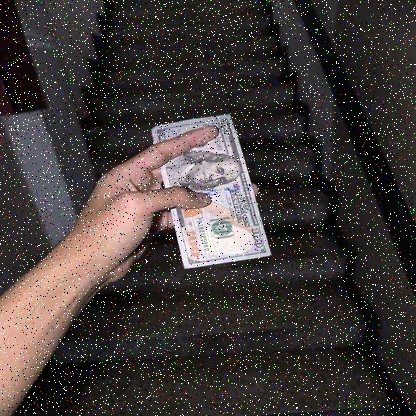one_hundred-front: (151, 114, 271, 274)
